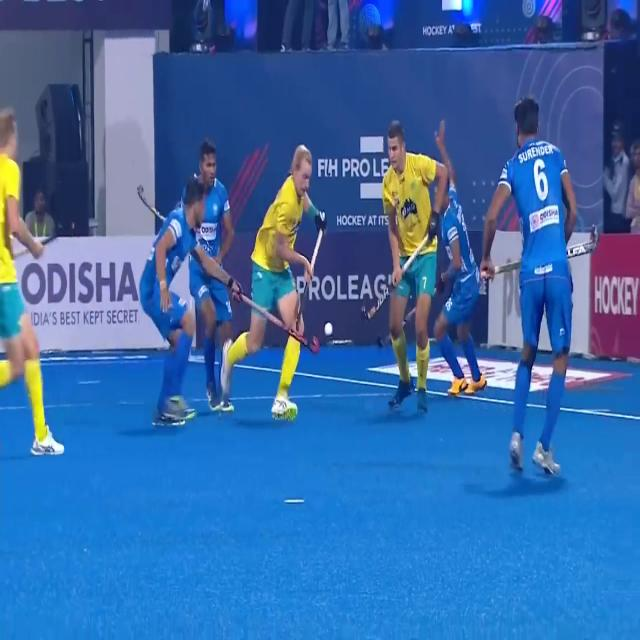ball: (319, 315, 337, 343)
